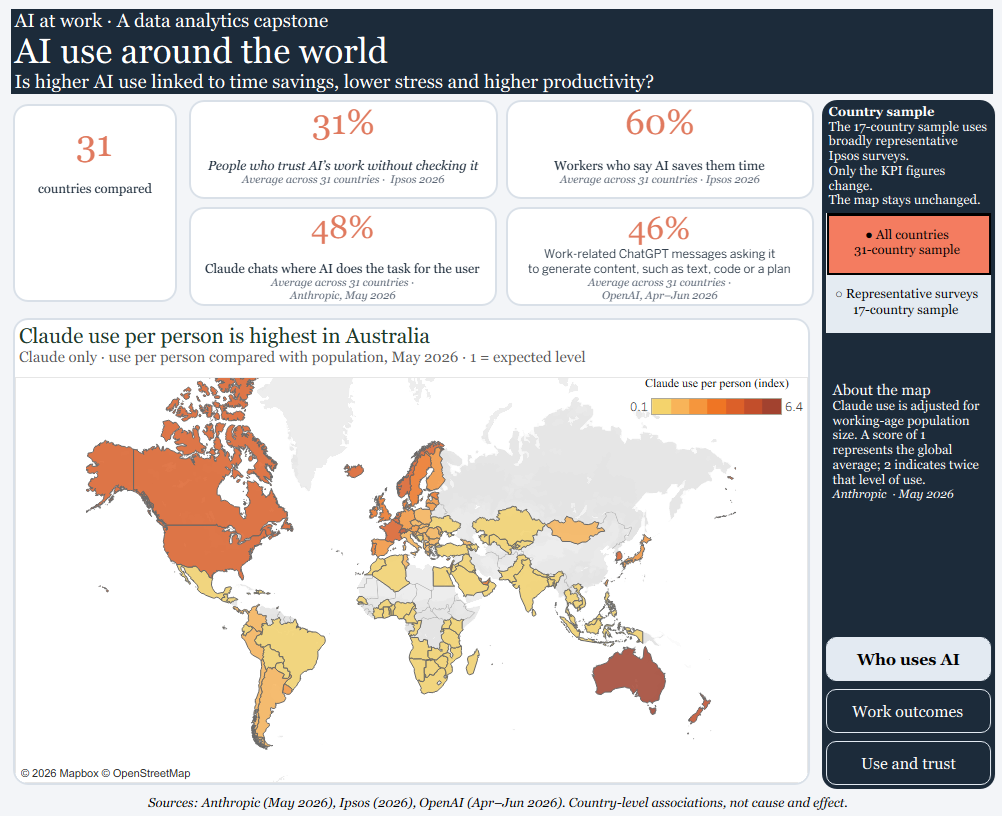

The dashboard page shown, as its layout file describes it:
{"tool":"tableau","page":{"name":"Dashboard 1","canvas":[1366,768],"ordinal":0},"visuals":[{"type":"text","box":[39,22,1289,75]},{"type":"text","box":[39,108,293,115]},{"type":"text","box":[371,108,293,115]},{"type":"text","box":[703,108,293,115]},{"type":"text","box":[1035,108,293,115]},{"type":"filter","title":"map","param":"[federated.1b539221mwcn131a7072p0jk6jo8].[none:Calculation_1899446515462144:ok]","box":[148,225,330,88]},{"type":"worksheet","title":"Graph","mark":"Line","rows":["Calculation_1899446588903431"],"cols":["Calculation_1899446515462144"],"box":[612,225,729,488]},{"type":"worksheet","title":"map","mark":"Multipolygon","box":[25,331,571,382]},{"type":"legend","title":"map","param":"[federated.1b539221mwcn131a7072p0jk6jo8].[usr:Calculation_1899446588903431:qk]","box":[31,407,267,69]},{"type":"text","box":[28,715,1313,42]}]}

Visuals, with their boxes on the page's 1366x768 design canvas (x1, y1, x2, y2). These are canvas units, not pixel positions in the 1003x818 screenshot, which may show the page scaled, cropped or inside an application window:
text: bbox=(39, 22, 1328, 97)
text: bbox=(39, 108, 332, 223)
text: bbox=(371, 108, 664, 223)
text: bbox=(703, 108, 996, 223)
text: bbox=(1035, 108, 1328, 223)
"map" filter: bbox=(148, 225, 478, 313)
"Graph" worksheet (Line marks): bbox=(612, 225, 1341, 713)
"map" worksheet (Multipolygon marks): bbox=(25, 331, 596, 713)
"map" legend: bbox=(31, 407, 298, 476)
text: bbox=(28, 715, 1341, 757)
